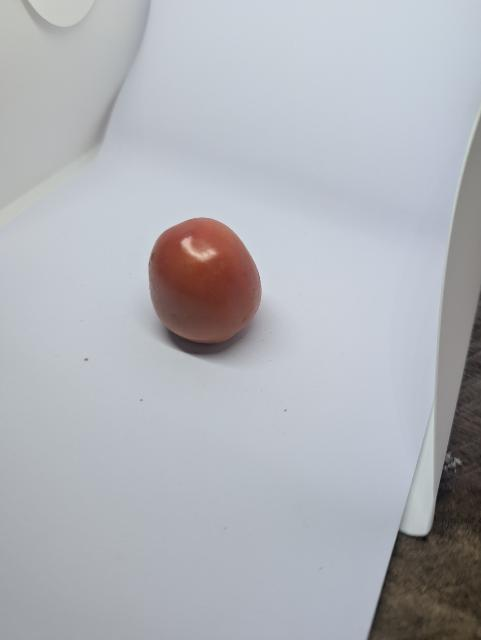red: (136, 210, 287, 373)
